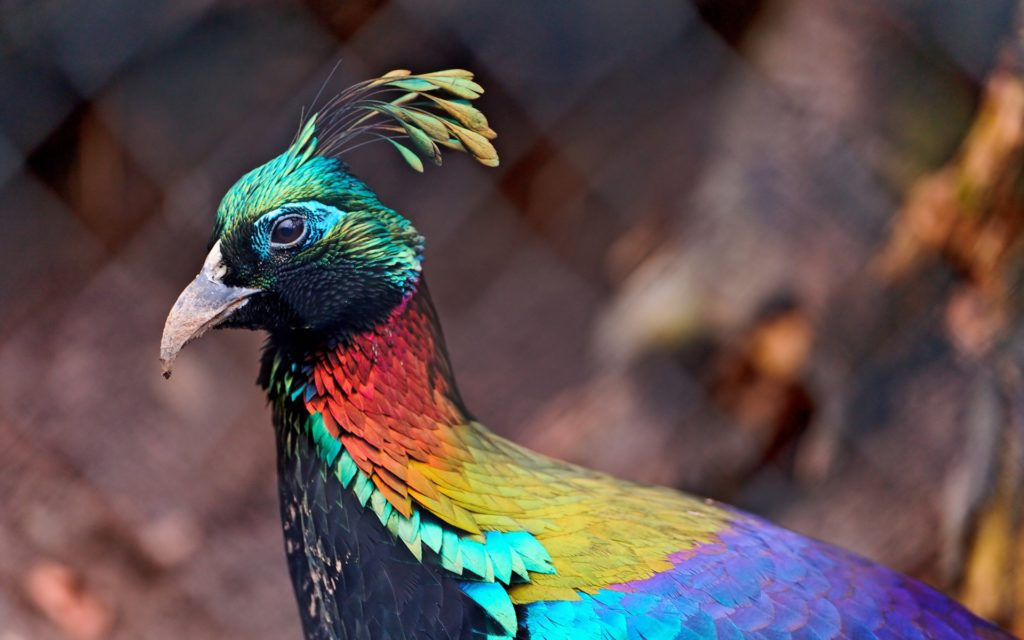bird: (144, 70, 1024, 640)
